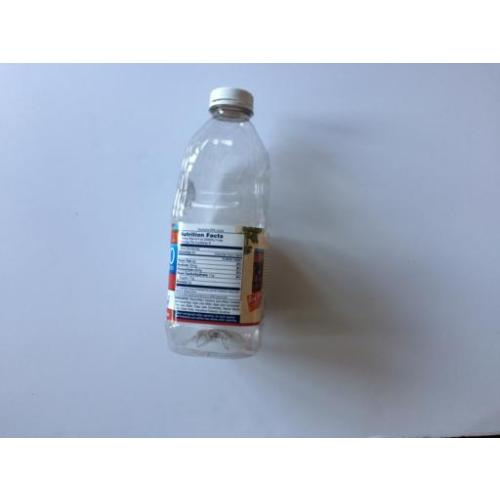plastic: (167, 86, 267, 357)
